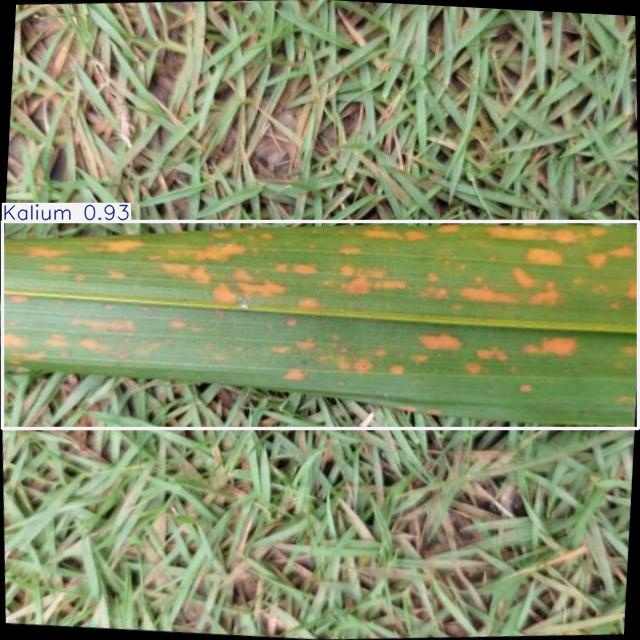Kalium: (3, 222, 638, 429)
